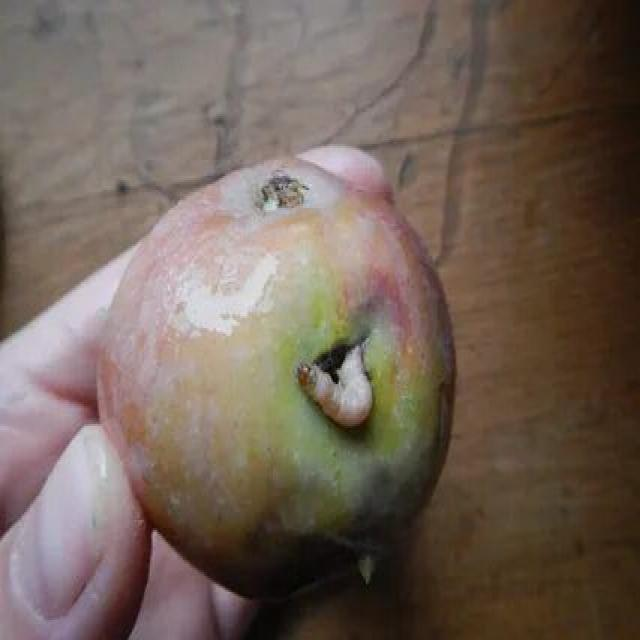Banana: (98, 168, 453, 570)
